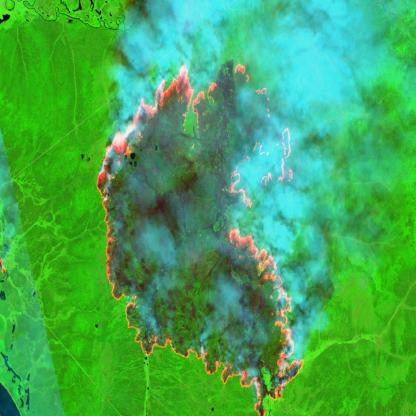fire: (96, 59, 306, 416)
